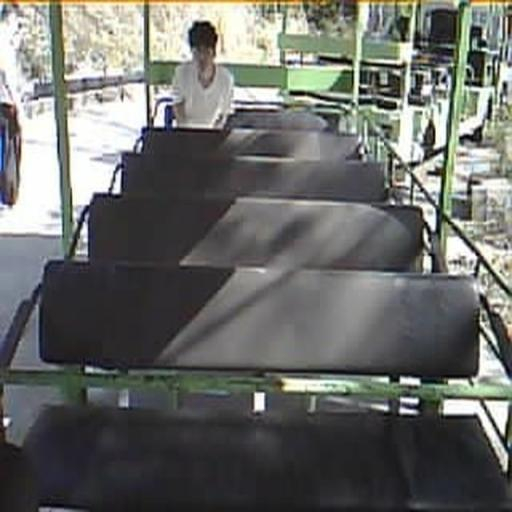persona: (170, 19, 234, 130)
